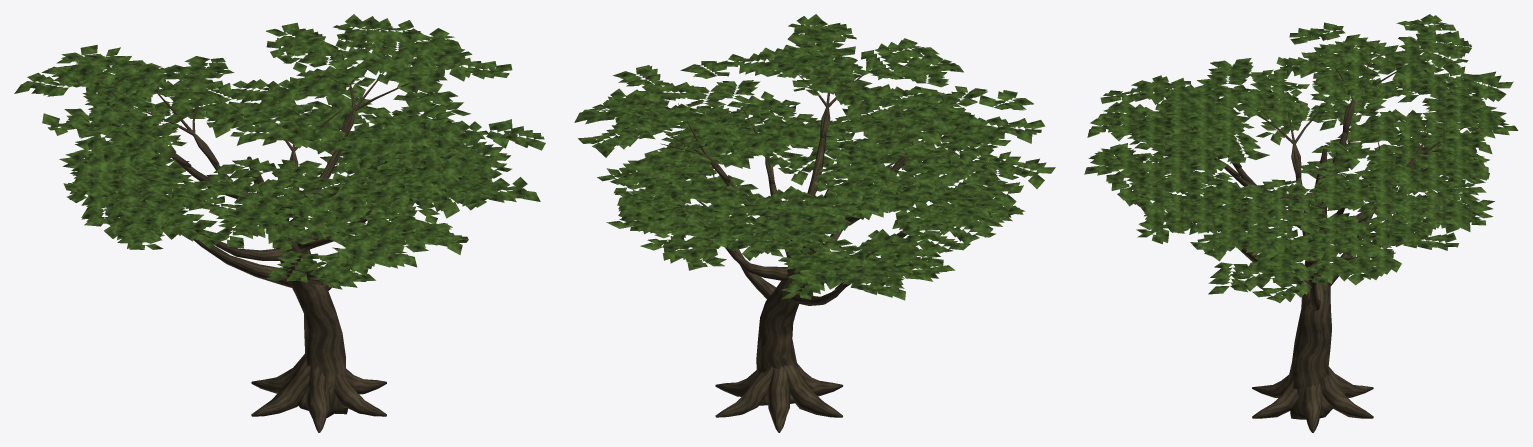
Rendered from tree_bent.glb.
The picture shows the model from 3 angles, left to right: view 1: azimuth 30°, elevation 25°; view 2: azimuth 150°, elevation 25°; view 3: azimuth 270°, elevation 25°; orthographic projection. The views are drawn at different scales.
Visible parts, largest first — view 1: tree_bentMesh; view 2: tree_bentMesh; view 3: tree_bentMesh.
Boxes of the visible parts, <box> form: tree_bentMesh: <box>14,14,545,432</box>; tree_bentMesh: <box>574,14,1055,432</box>; tree_bentMesh: <box>1084,14,1518,432</box>.
Bounding box in the file's own units: 10.91 × 8.28 × 10.59.
2 materials, 2 textured.
